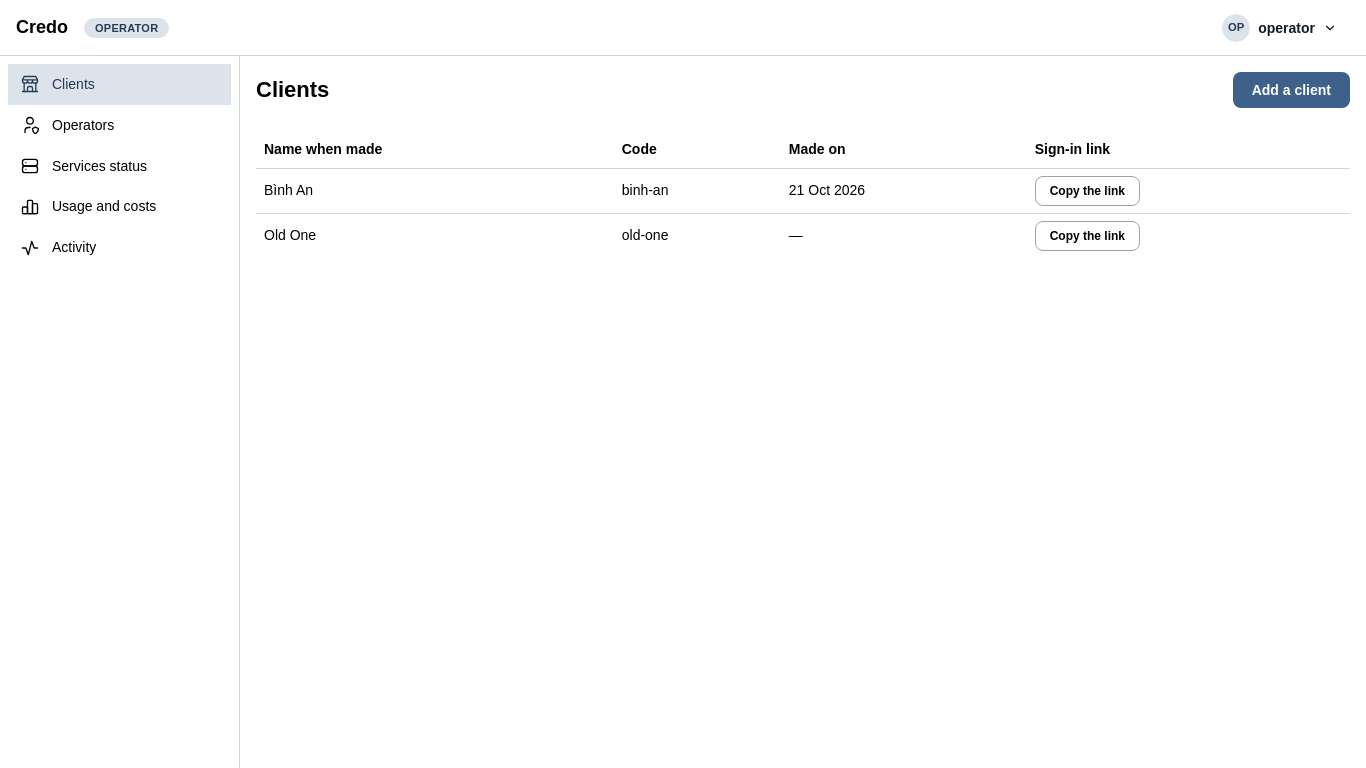
Test: the operator’s page › A code typed in capitals, or with spaces around it, is lowered and trimmed before it is sent
This screenshot has width=1366, height=768.
Click the link "Add a client". click: [1291, 90]
box: [1233,72,1350,108]
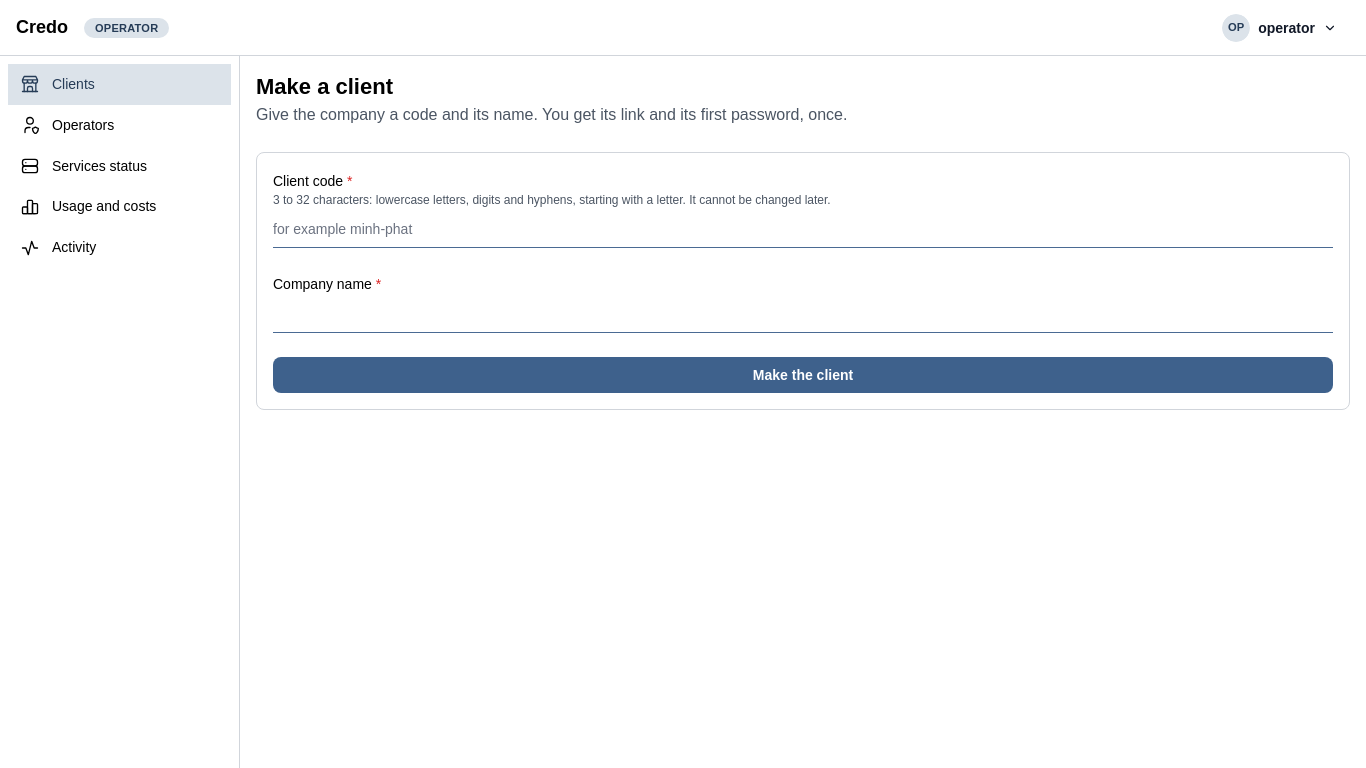
Type "  Minh-PHAT " into the field labelled "Client code *". click: [803, 230]
box: [273,212,1333,248]
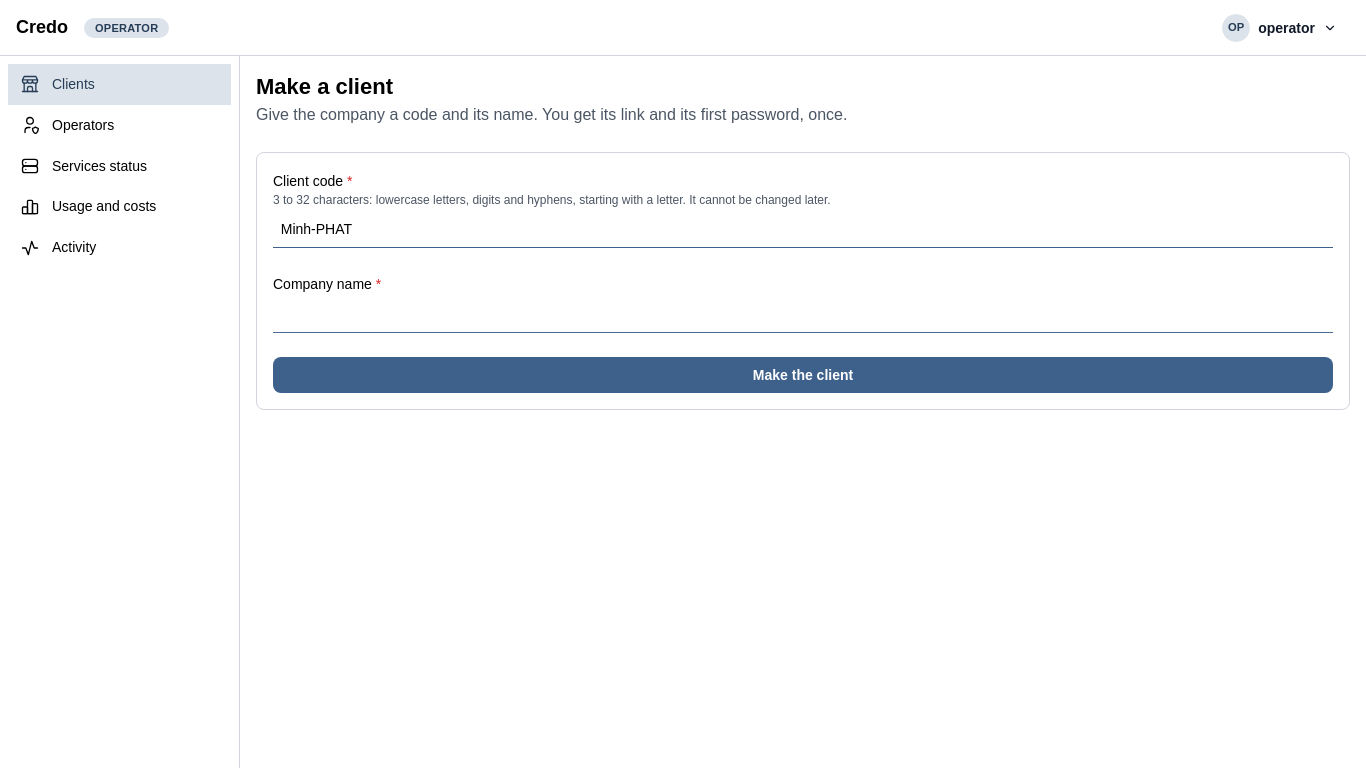
Type "Minh Phát" into the field labelled "Company name *". click: [803, 315]
box: [273,297,1333,333]
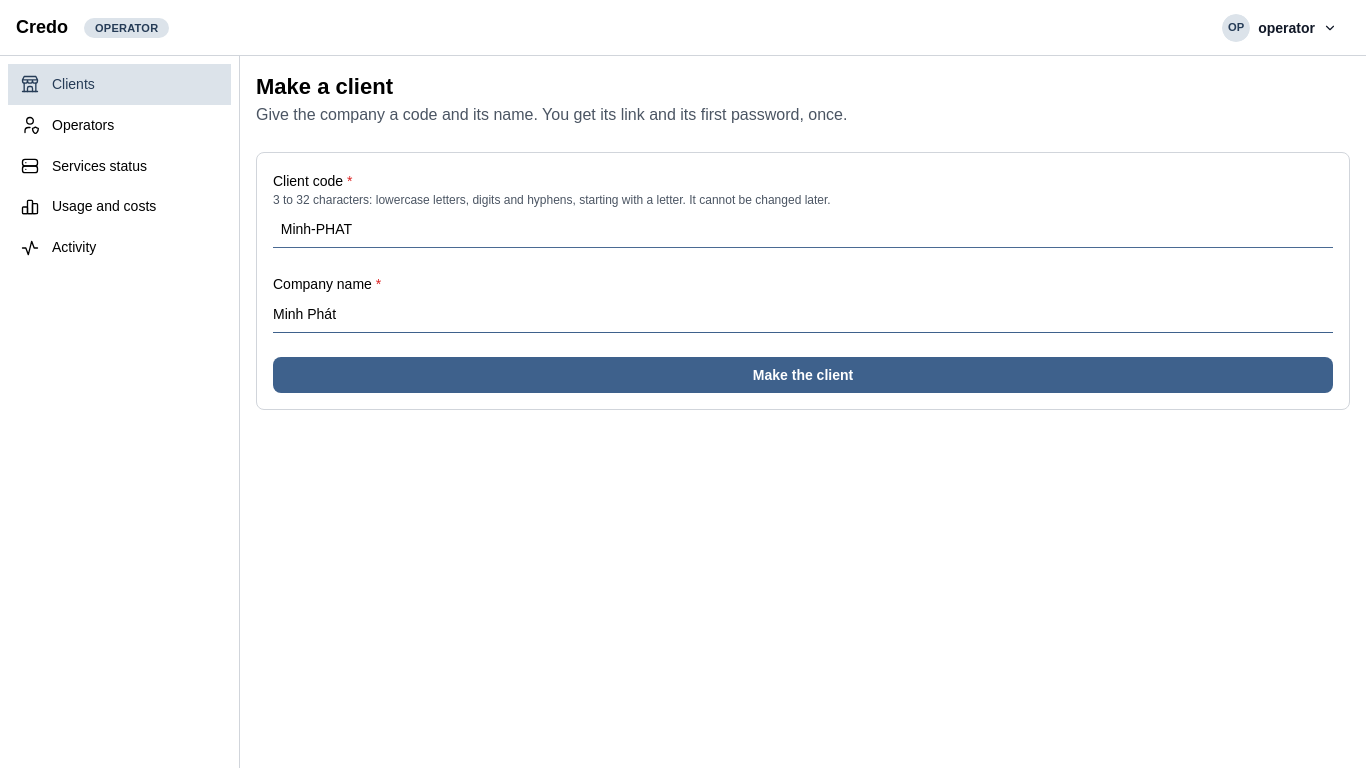
Click the button "Make the client". click: [803, 375]
box: [273,357,1333,393]
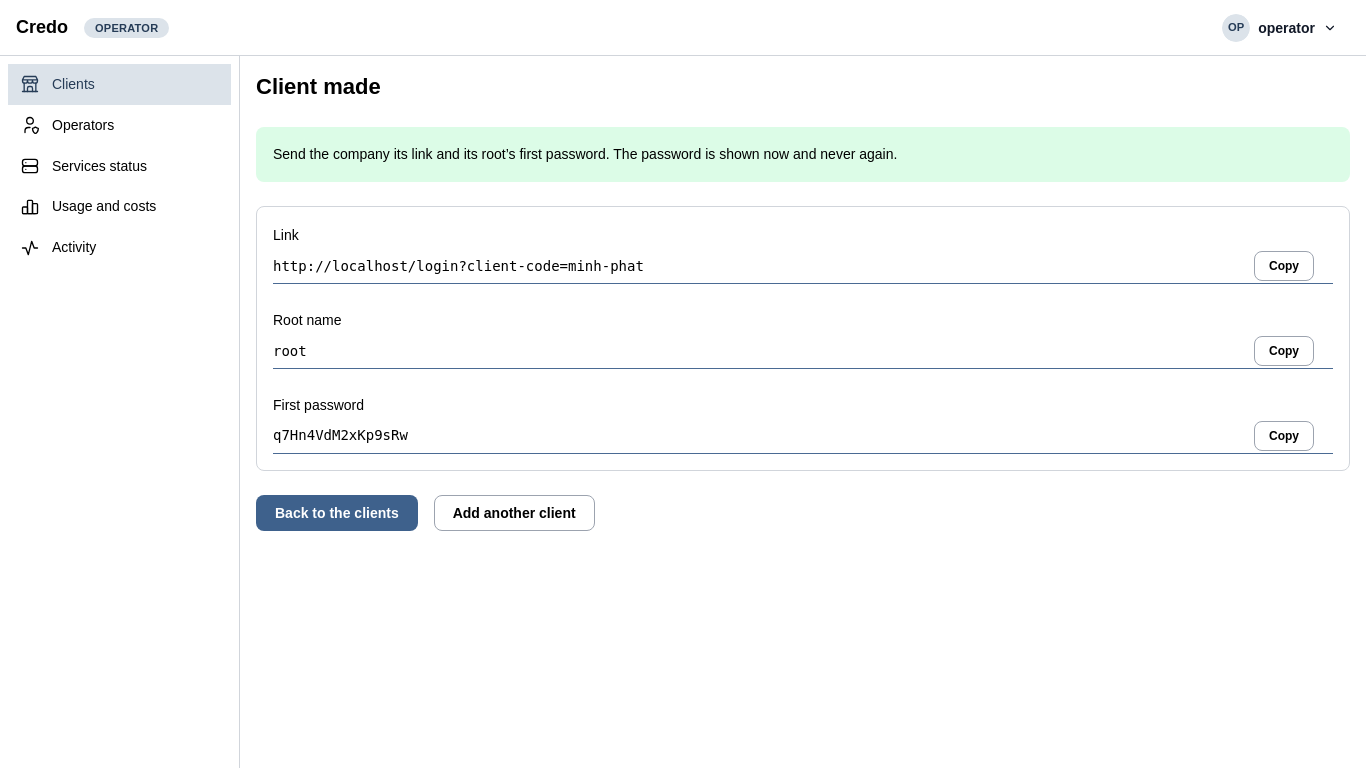
Now the heading "Client made" is shown, box [256,74,381,99]
